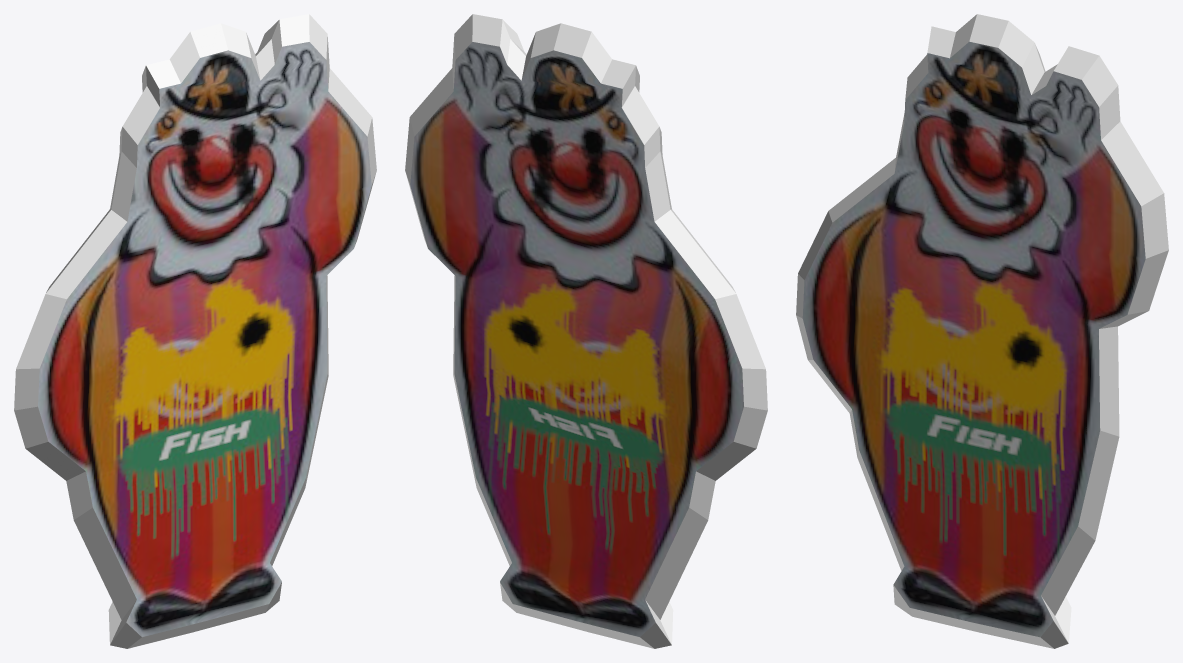
The model's file is gb_gobb.glb.
3 renders of one model, left to right at view 1: azimuth 30°, elevation 25°; view 2: azimuth 150°, elevation 25°; view 3: azimuth 330°, elevation 25°, orthographic. The views are drawn at different scales.
Parts seen in each view (by area): view 1: Plane.001; view 2: Plane.001; view 3: Plane.001.
Boxes of the visible parts, left/top/right/bottom form: Plane.001: left=14, top=14, right=376, bottom=648; Plane.001: left=405, top=14, right=767, bottom=648; Plane.001: left=796, top=14, right=1168, bottom=648.
Bounding box in the file's own units: 2.16 × 3.44 × 0.18.
1 material, 1 textured.
